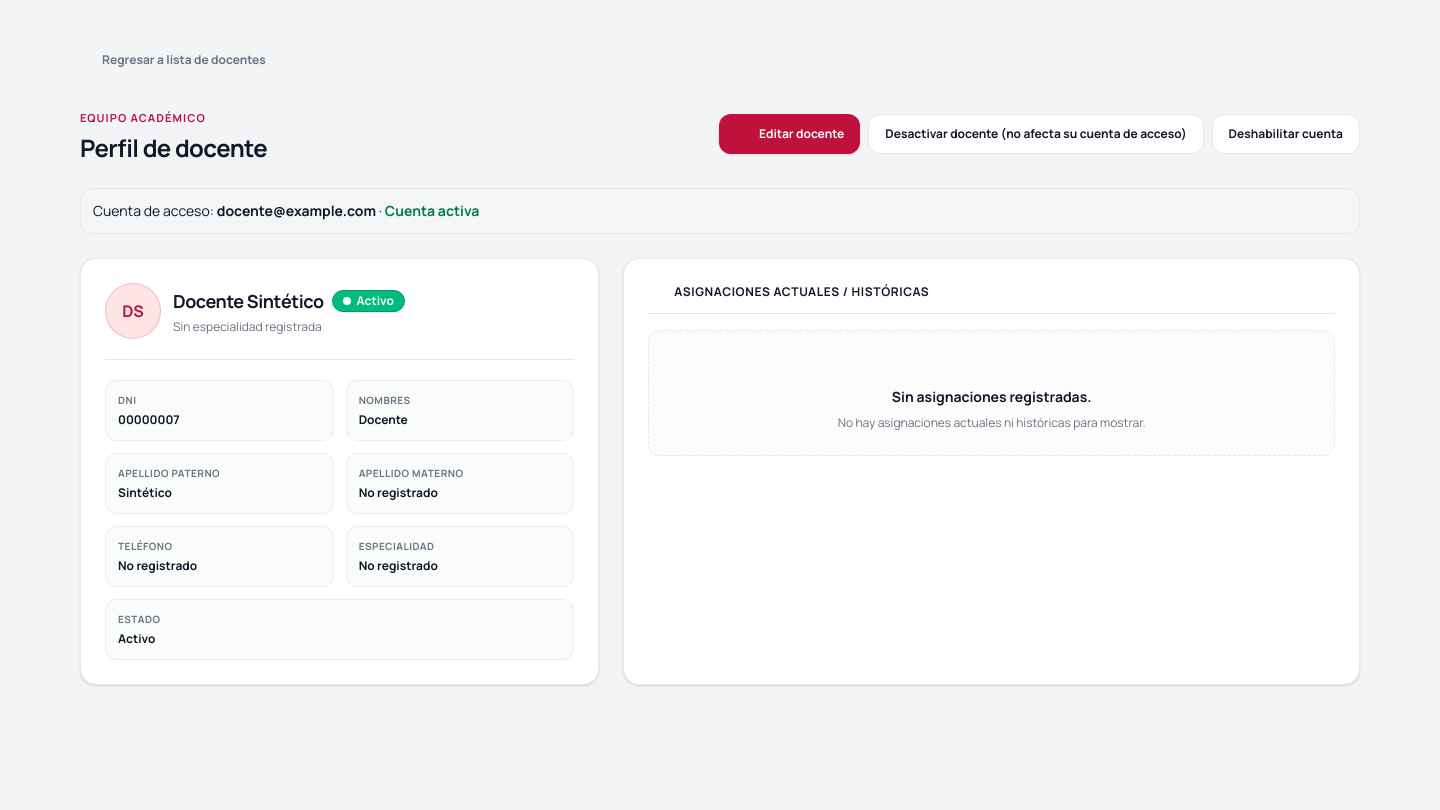
Test: teacher profile: disabling the account uses the generic endpoint and re-reads the detail
The width and height of the screenshot is (1440, 810).
Click the button "Deshabilitar cuenta": [1286, 134] box [1212,114,1360,154]
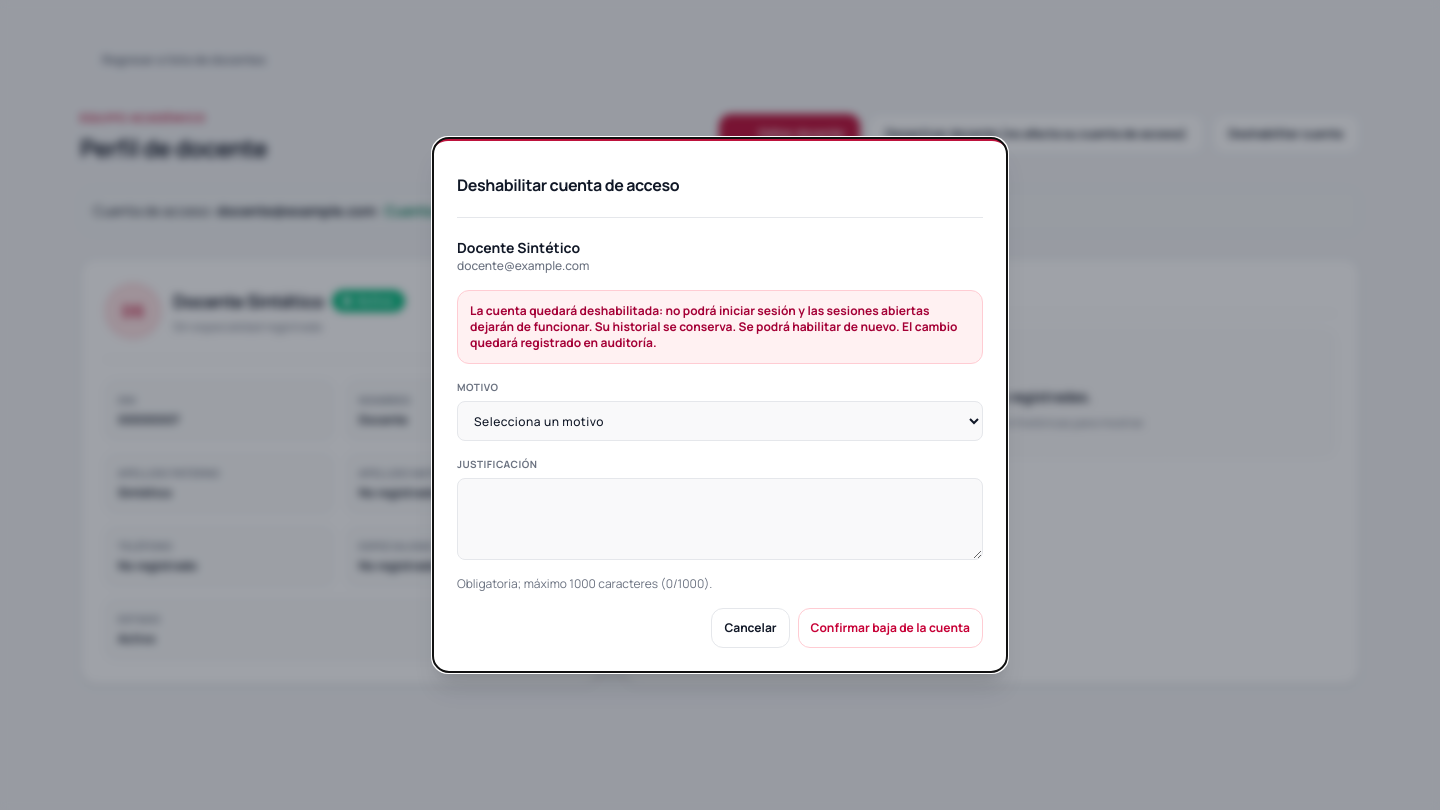
Select "Fin de la designación" in the dropdown labelled "Motivo": [720, 421] box [457,401,983,441]
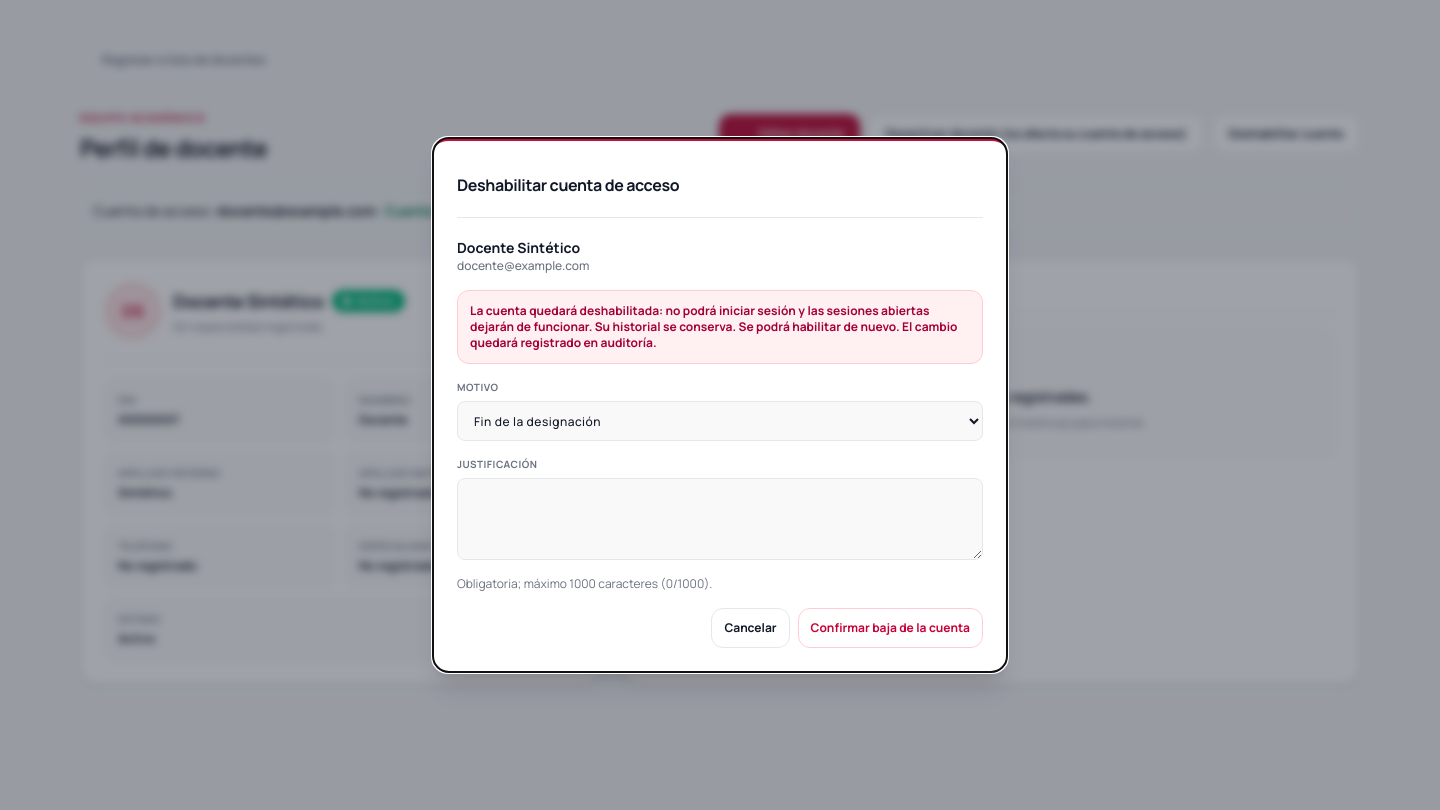
In the text box labelled "Justificación": [720, 519] box [457,478,983,560], type "Fin de contrato."
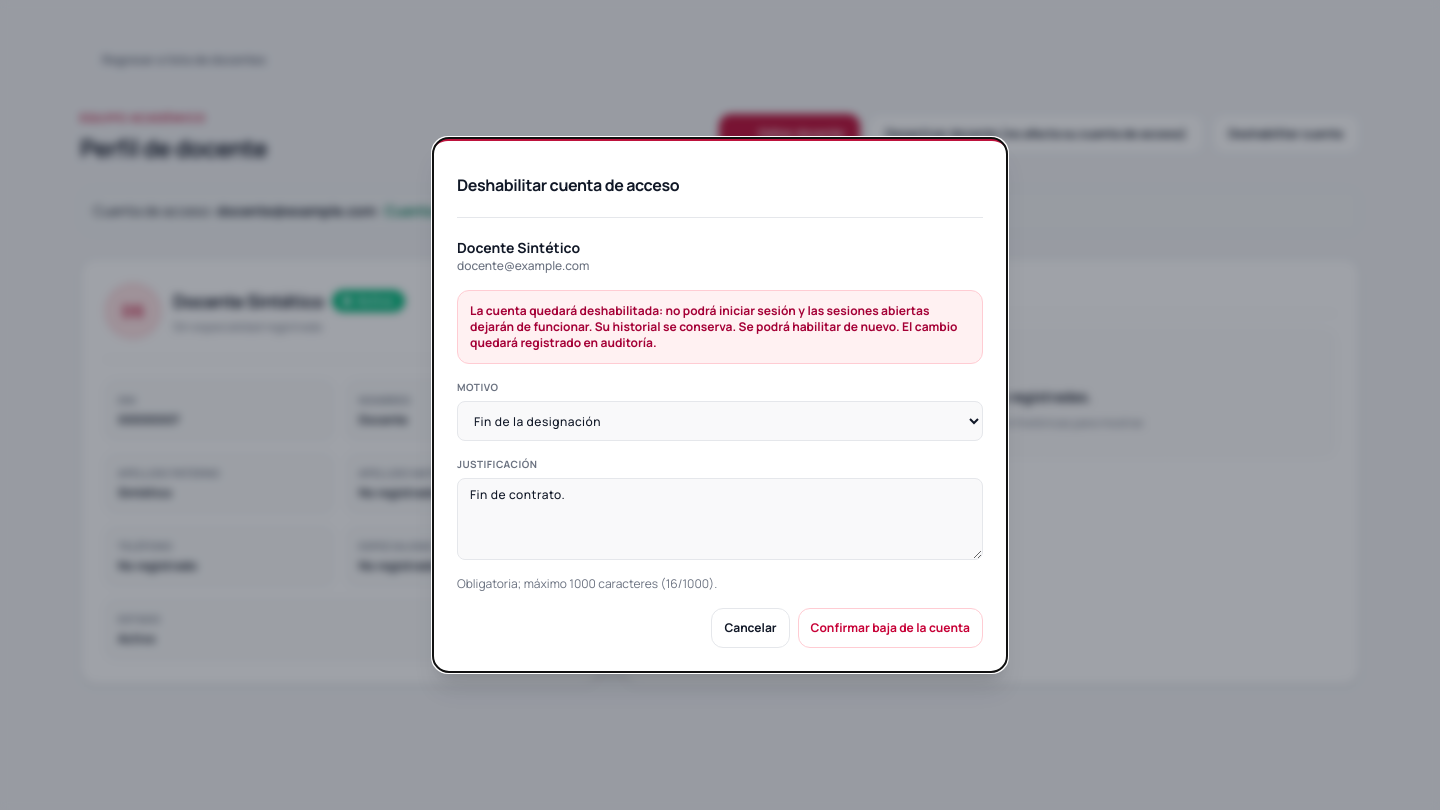
expect the form is shown: met
Submit the form, box [457,238,983,648]
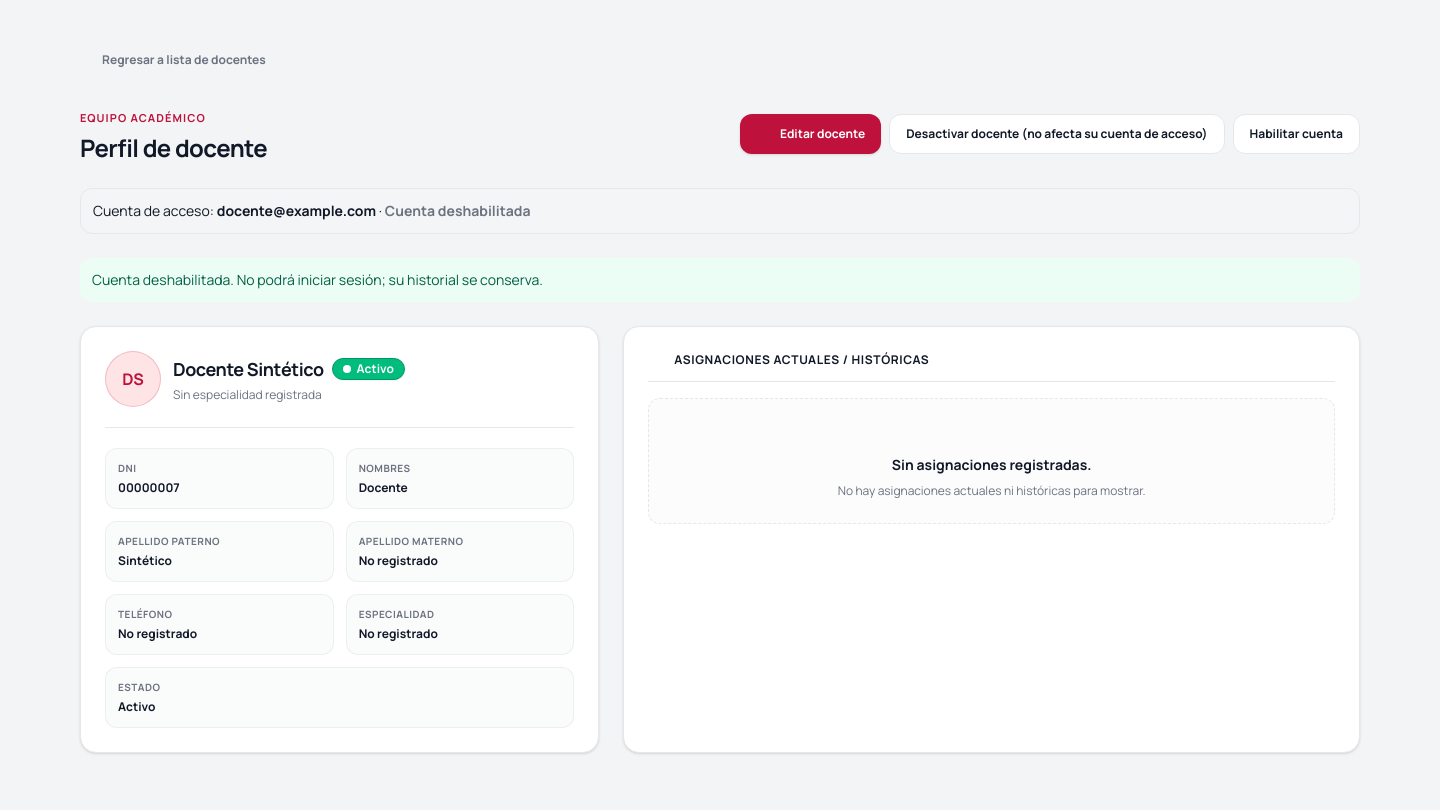
expect the button "Habilitar cuenta" is shown: met, box [1233,114,1360,154]
expect the text "Cuenta deshabilitada. No podrá iniciar sesión" is shown: met, box [92,270,543,289]
expect the text "Cuenta deshabilitada" is shown: met, box [385,201,530,220]
